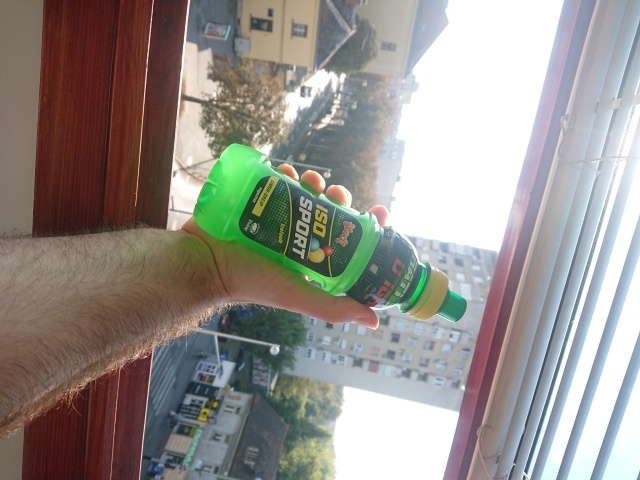Vindi Iso Sport Lemon-Grapefruit 500mL: (190, 141, 470, 325)
